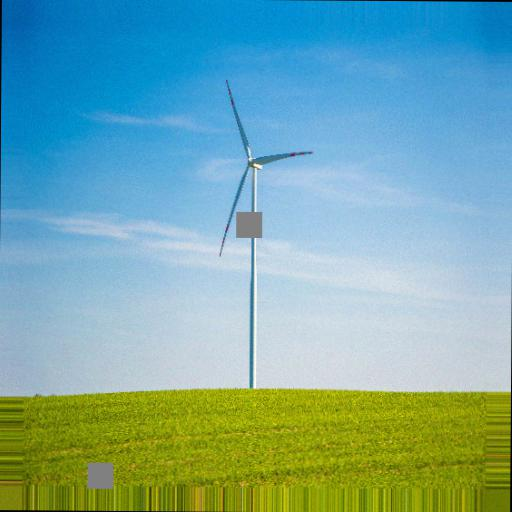wind turbine: (219, 78, 316, 392)
